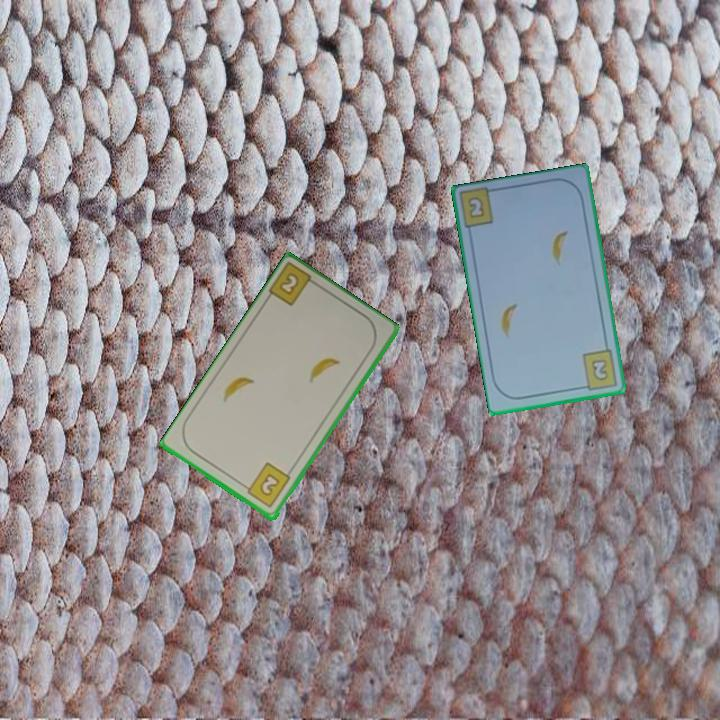2b: (239, 459, 294, 511), (265, 261, 323, 309), (576, 346, 620, 392), (464, 193, 488, 222)
